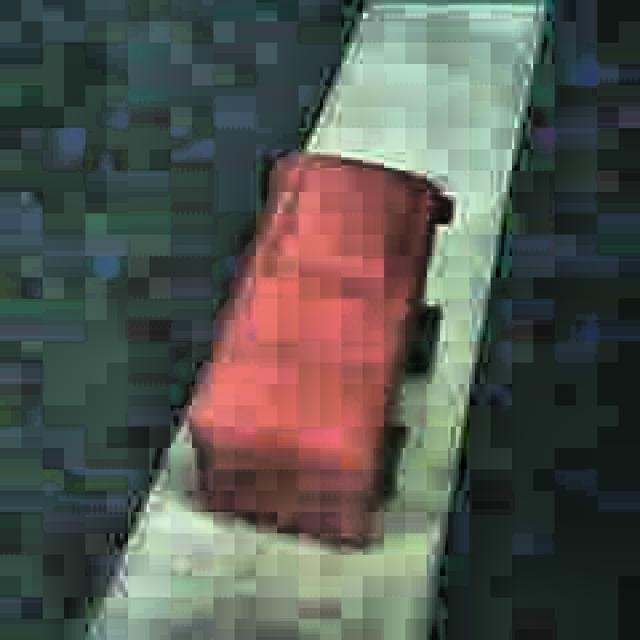bus: (184, 151, 456, 555)
